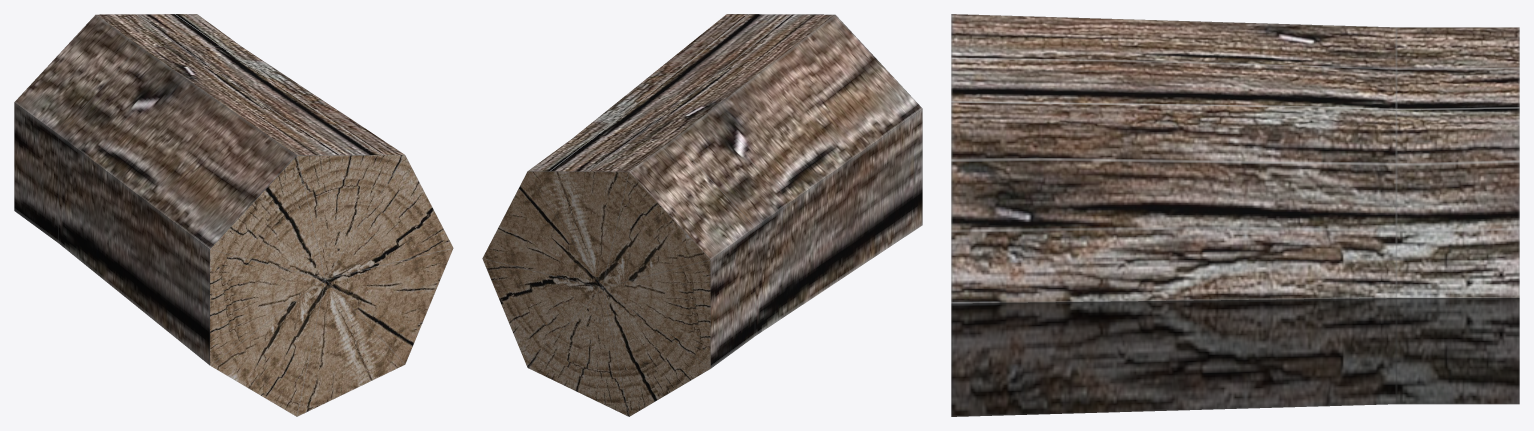
The model's file is log.fbx.
3 views of the same model, side by side, from view 1: azimuth 30°, elevation 25°; view 2: azimuth 150°, elevation 25°; view 3: azimuth 270°, elevation 25° (orthographic). The views are drawn at different scales.
Visible parts, largest first — view 1: pCylinder1; view 2: pCylinder1; view 3: pCylinder1.
Part boxes in pixels (bbox=[...]): pCylinder1: bbox=[14, 14, 453, 416]; pCylinder1: bbox=[482, 14, 922, 416]; pCylinder1: bbox=[951, 14, 1519, 416].
Bounding box in the file's own units: 2.03 × 2.08 × 2.94.
1 material, 1 textured.
